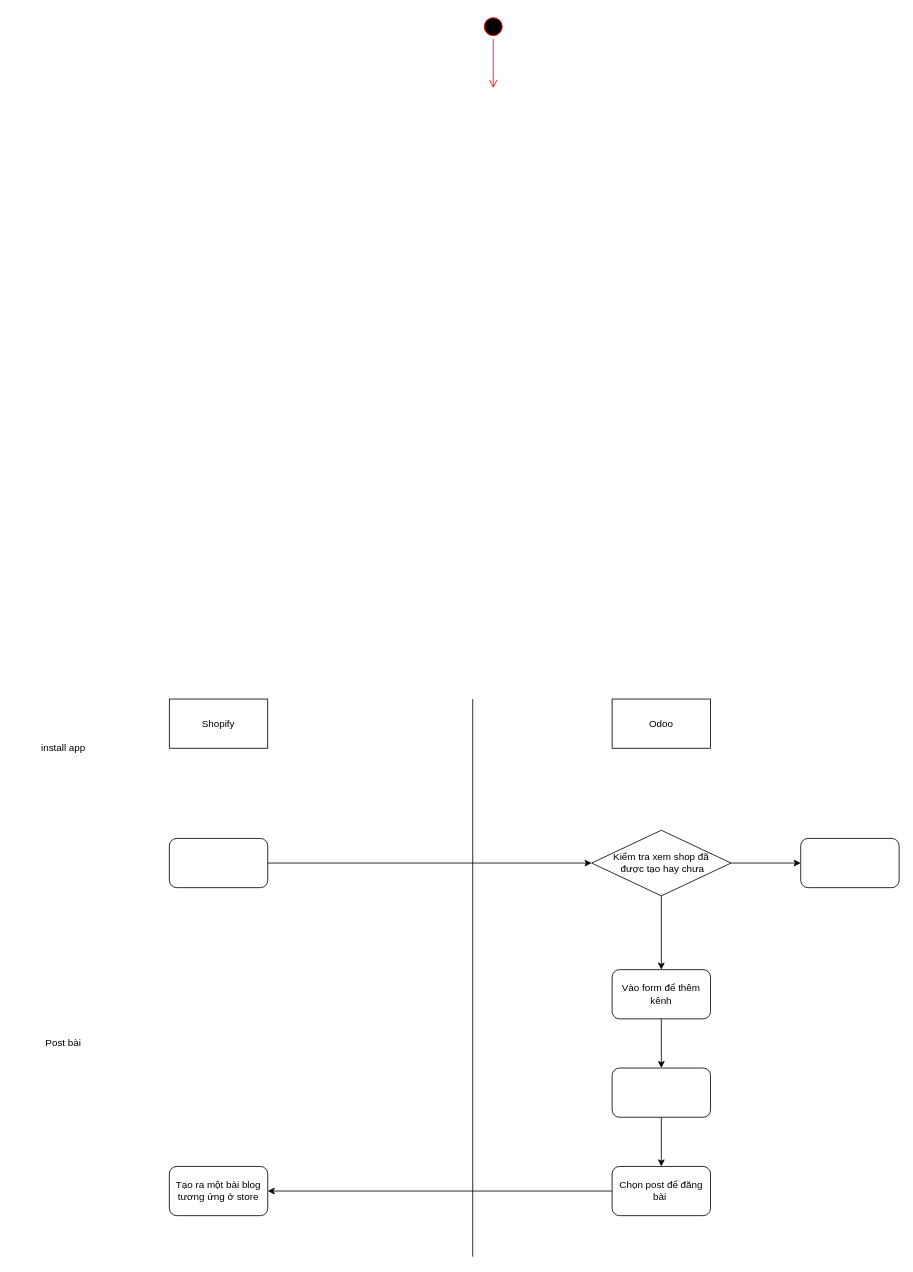
This 913x1272 diagram has some shape labels left out. The shapes that lost their labels are listed below. From the top down, each one's centre as x and y in pixels, then its label:
At (x=218, y=863): "Install App từ Shopify".
At (x=849, y=863): "Vào trang liên kết với facebook".
At (x=661, y=1092): "Tạo mới một bài post".
